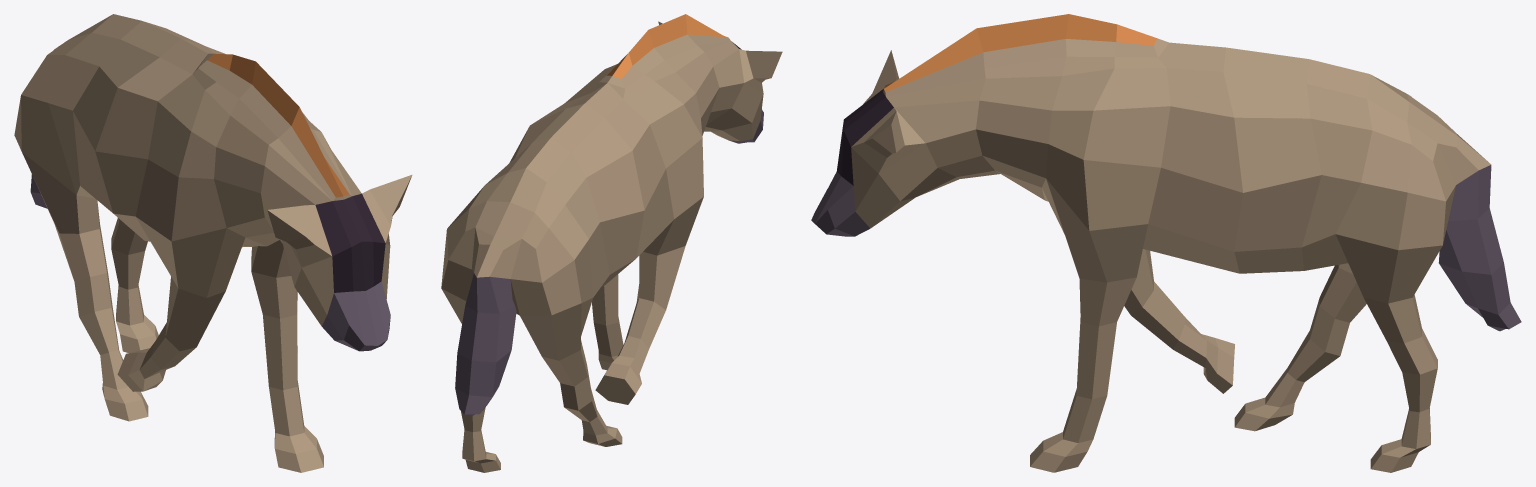
File: Hyäne2.fbx
3 renders of one model, left to right at view 1: azimuth 30°, elevation 25°; view 2: azimuth 150°, elevation 25°; view 3: azimuth 270°, elevation 25°, orthographic. The views are drawn at different scales.
Parts seen in each view (by area): view 1: Hyäne.002; view 2: Hyäne.002; view 3: Hyäne.002.
Part boxes in pixels (x1,y1,x2,y2): Hyäne.002: [14, 14, 412, 472]; Hyäne.002: [441, 14, 782, 472]; Hyäne.002: [811, 14, 1521, 472].
Bounding box in the file's own units: 0.4757 × 1.18 × 1.77.
